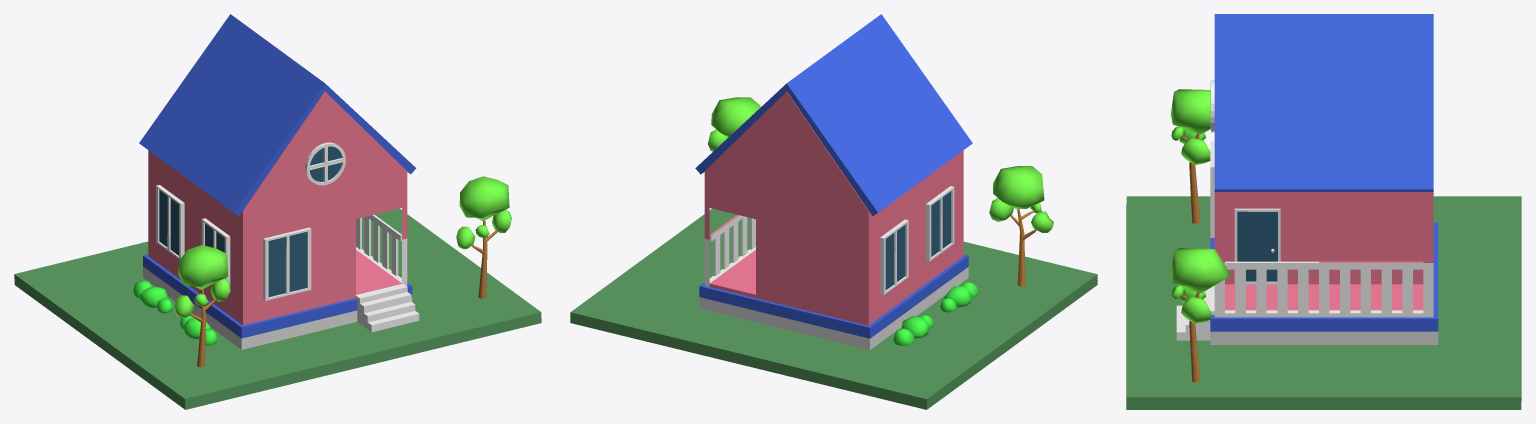
Rendered from house-12.fbx.
3 views of the same model, side by side, from view 1: azimuth 30°, elevation 25°; view 2: azimuth 150°, elevation 25°; view 3: azimuth 270°, elevation 25° (orthographic). The views are drawn at different scales.
Visible parts, largest first — view 1: Plane, Cube, Cube.001, Cube.002, big window 1, tree_1.001, tree_1.006, Cube.003, big window 1.002, Cylinder.001, big window 1.001; view 2: Plane, Cube, Cube.001, Cube.002, tree_1.001, big window 1.001, big window 1.002, tree_1.006; view 3: Plane, Cube.001, Cube, Cube.002, tree_1.006, tree_1.001, Cube.005, Cube.003, big window 1.
Part boxes in pixels (<box>): Plane: <box>14,208,541,409</box>; Cube: <box>148,91,407,325</box>; Cube.001: <box>139,14,416,215</box>; Cube.002: <box>143,254,412,349</box>; big window 1: <box>263,227,311,300</box>; tree_1.001: <box>175,245,230,367</box>; tree_1.006: <box>456,176,511,298</box>; Cube.003: <box>355,283,419,332</box>; big window 1.002: <box>156,185,184,259</box>; Cylinder.001: <box>305,142,345,185</box>; big window 1.001: <box>201,218,230,293</box>; Plane: <box>570,208,1097,409</box>; Cube: <box>704,91,963,325</box>; Cube.001: <box>695,14,972,216</box>; Cube.002: <box>699,254,968,349</box>; tree_1.001: <box>989,166,1053,286</box>; big window 1.001: <box>926,186,954,261</box>; big window 1.002: <box>880,219,908,294</box>; tree_1.006: <box>708,97,760,215</box>; Plane: <box>1126,196,1521,409</box>; Cube.001: <box>1214,14,1433,191</box>; Cube: <box>1214,192,1433,317</box>; Cube.002: <box>1210,222,1438,344</box>; tree_1.006: <box>1170,248,1230,382</box>; tree_1.001: <box>1170,89,1210,223</box>; Cube.005: <box>1234,208,1280,284</box>; Cube.003: <box>1176,285,1214,340</box>; big window 1: <box>1210,141,1214,237</box>.
Size of the model in its own units: 2956 by 2018 by 2448.
